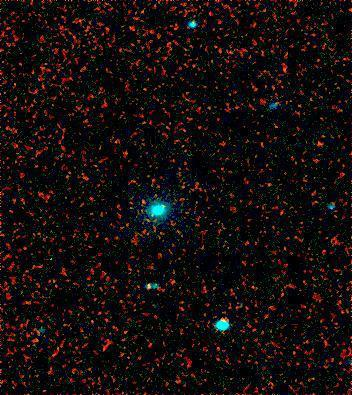star: (129, 186, 159, 216)
